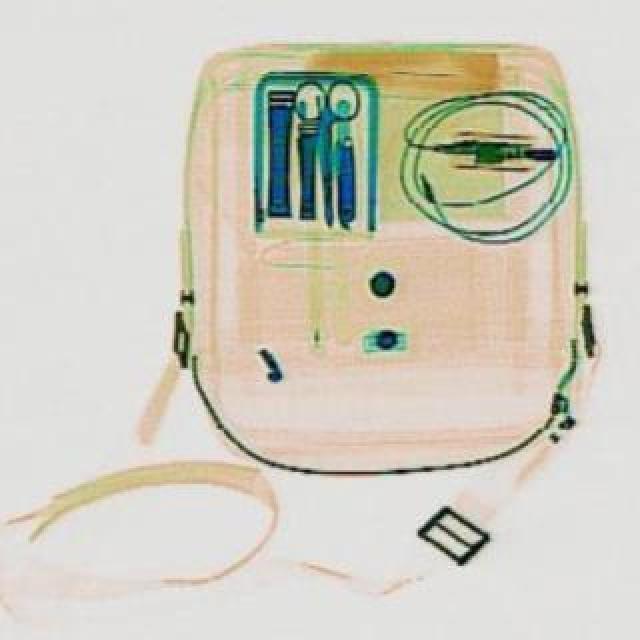pliers: (288, 76, 360, 224)
